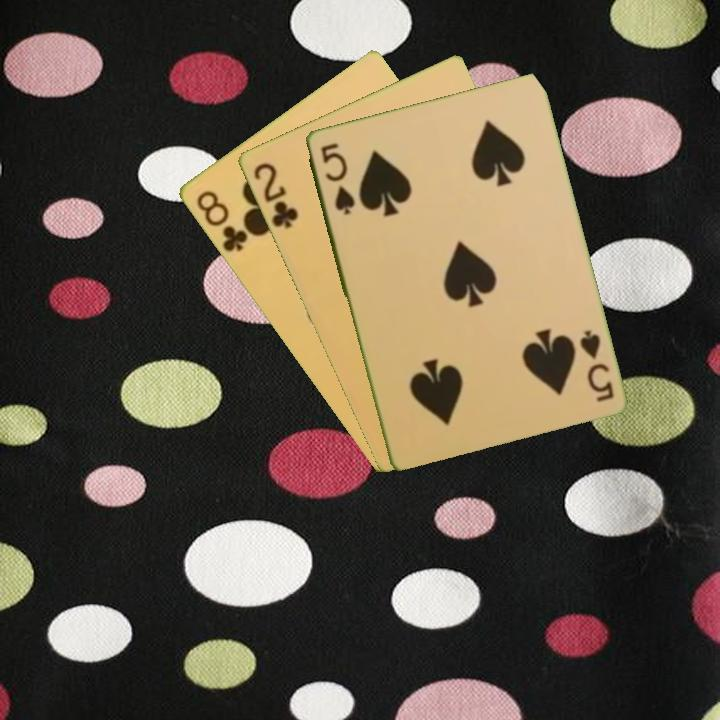2c: (249, 159, 301, 231)
5s: (316, 139, 358, 218), (575, 326, 616, 405)
8c: (192, 186, 250, 255)
